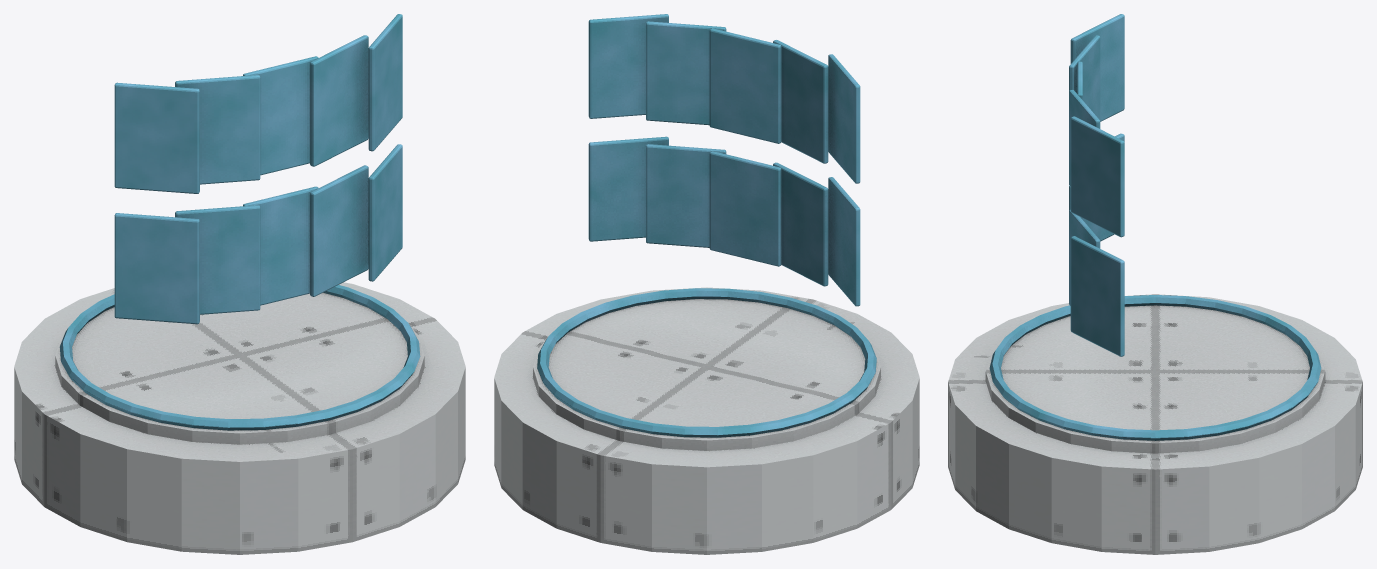
Rendered from base_roster_holo.glb.
3 views of the same model, side by side, from view 1: azimuth 30°, elevation 25°; view 2: azimuth 150°, elevation 25°; view 3: azimuth 270°, elevation 25° (orthographic). The views are drawn at different scales.
Parts seen in each view (by area): view 1: base_roster_holo; view 2: base_roster_holo; view 3: base_roster_holo.
Part boxes in pixels (box(x1,y1,x2,y2)): base_roster_holo: box(14, 14, 465, 554); base_roster_holo: box(494, 14, 919, 554); base_roster_holo: box(948, 14, 1362, 554).
Size of the model in its own units: 2.2 by 2.28 by 2.2.
2 materials, 2 textured.
